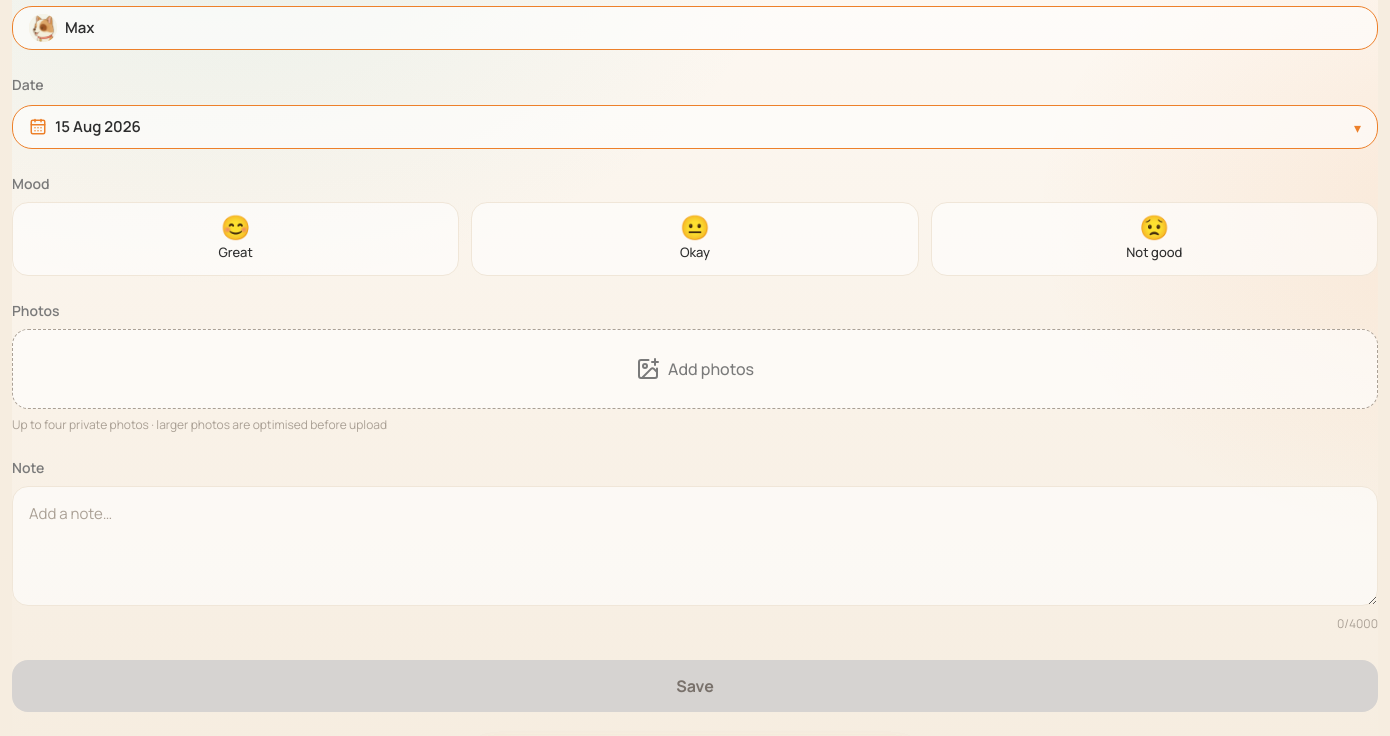
Test: HealthLogForm › preserves the note after a recoverable save failure
The image size is (1390, 736).
Click the button "😐 Okay" at (695, 239), box [471,202,919,276]
(page scrolled)
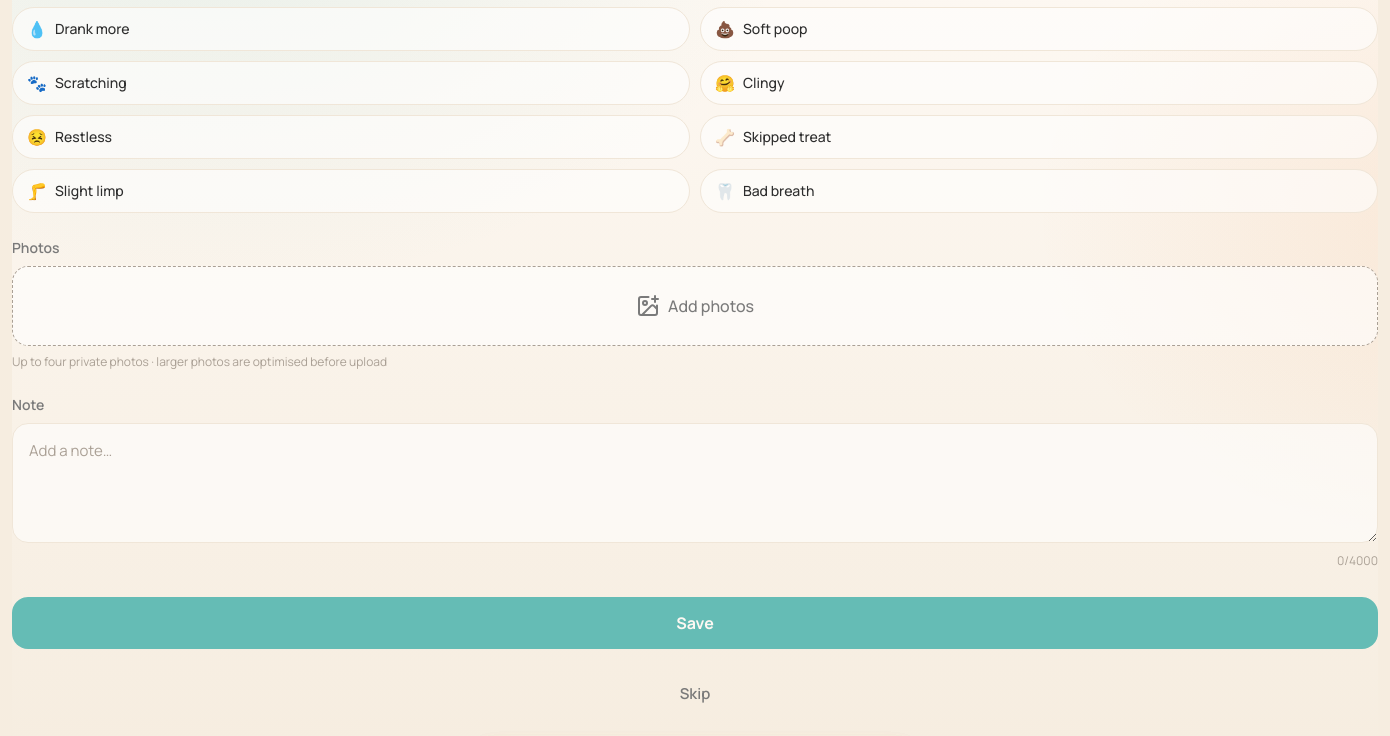
Type "Max was quieter after lunch." into the text box labelled "Add a note…" at (695, 482), box [12,422,1378,542]
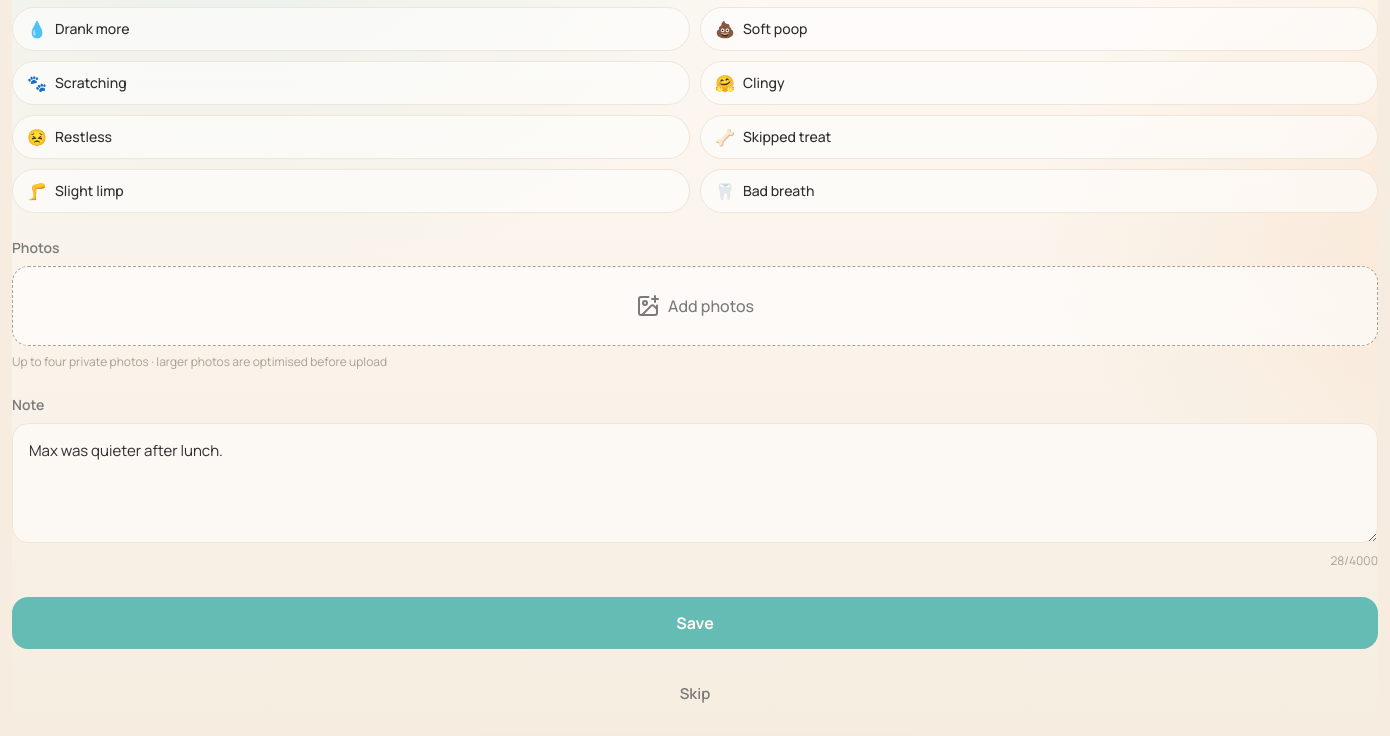
Click the button "Save" at (695, 622), box [12,596,1378,648]
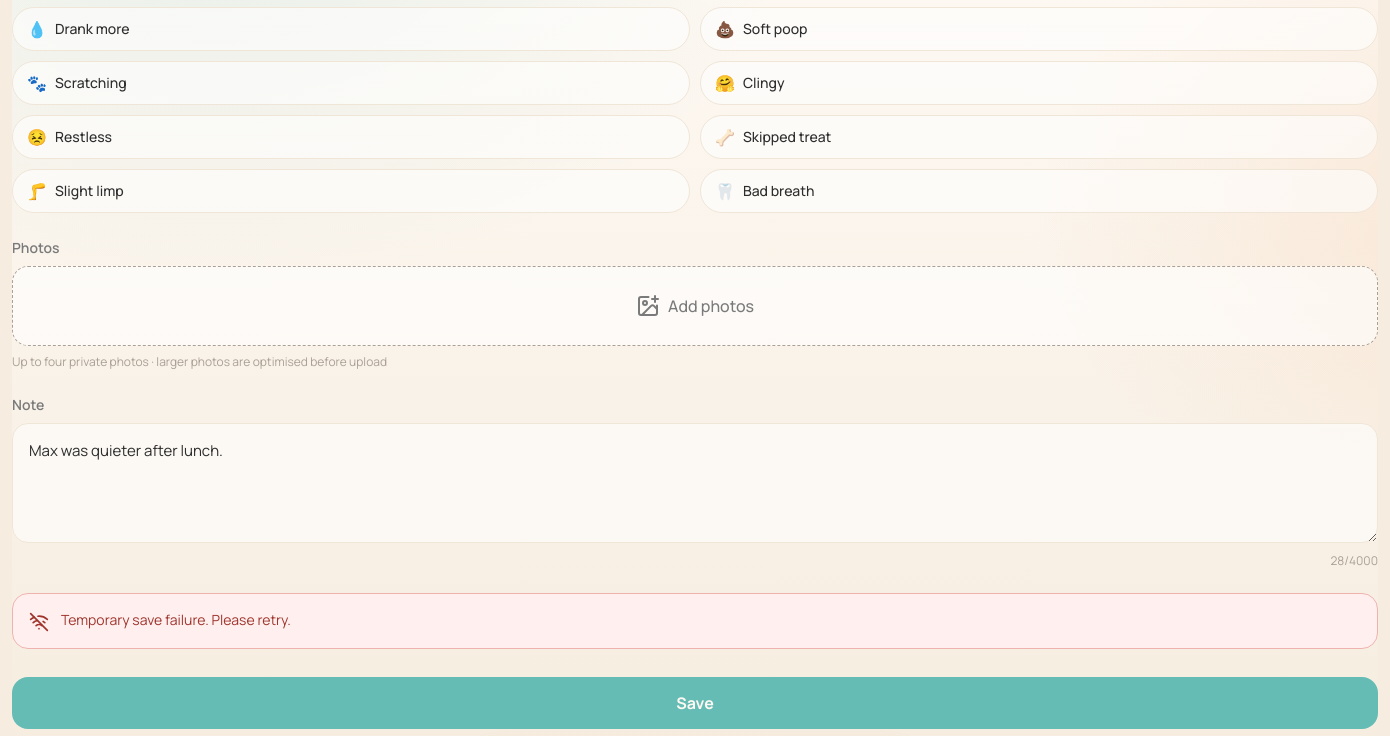
Expected: the text "Temporary save failure. Please retry." is shown, [61,610,291,632]
